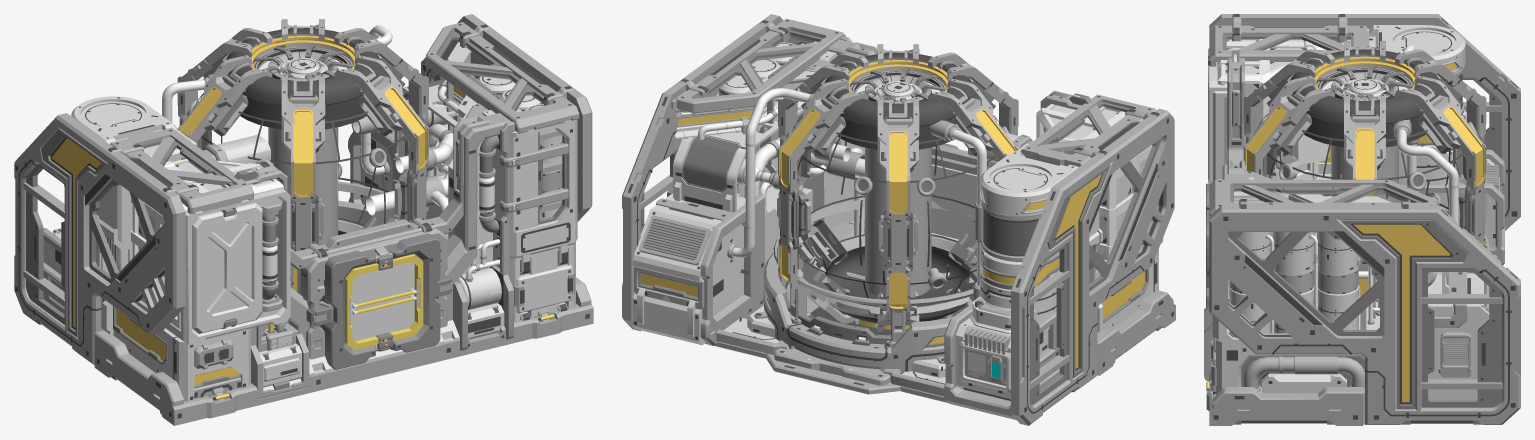
The model's file is Prototech_Reactor_LOD1.fbx.
3 renders of one model, left to right at view 1: azimuth 30°, elevation 25°; view 2: azimuth 150°, elevation 25°; view 3: azimuth 270°, elevation 25°, orthographic. The views are drawn at different scales.
Visible parts, largest first — view 1: Cube.106, Cube.127, Plane.016, Cylinder.078, Prot_Assembler_PaintedDarker_06.002, Prot_Assembler_PaintedColorable_02.010, Cylinder.153, detector_conveyor_section_002, Prot_Assembler_PaintedVeryDark_04.007, 2_ReactorPole01.010, 2_ReactorPole01.009, Cube.146 (+44 smaller); view 2: Cube.106, Cylinder.078, Cube.146, Cube.131, 2_ReactorPole01.007, Plane.016, EMC Cylinder.011, Cylinder.067, 2_ReactorPole01.006, EMC Cylinder.009, Cube.248, 2_ReactorPole01.008 (+44 smaller); view 3: Cube.106, Cube.248, Plane.016, Cylinder.078, Cylinder.126, 2_ReactorPole01.007, Cube.247, Cylinder.153, 2_ReactorPole01.009, Cylinder.067, Cube.131, 2_ReactorPole01.008 (+34 smaller).
Boxes of the visible parts, x1,y1,x2,y2 form: Cube.106: [14, 14, 592, 365]; Cube.127: [96, 129, 290, 401]; Plane.016: [109, 22, 579, 214]; Cylinder.078: [226, 28, 380, 271]; Prot_Assembler_PaintedDarker_06.002: [94, 304, 593, 425]; Prot_Assembler_PaintedColorable_02.010: [192, 202, 262, 333]; Cylinder.153: [427, 119, 577, 321]; detector_conveyor_section_002: [345, 254, 423, 349]; Prot_Assembler_PaintedVeryDark_04.007: [324, 233, 440, 369]; 2_ReactorPole01.010: [281, 74, 325, 291]; 2_ReactorPole01.009: [334, 55, 428, 223]; Cube.146: [43, 131, 513, 398]; Cube.106: [622, 14, 1174, 425]; Cylinder.078: [824, 52, 971, 323]; Cube.146: [656, 194, 1059, 419]; Cube.131: [632, 108, 803, 345]; 2_ReactorPole01.007: [777, 78, 868, 324]; Plane.016: [676, 18, 1156, 166]; EMC Cylinder.011: [763, 223, 953, 371]; Cylinder.067: [980, 151, 1078, 330]; 2_ReactorPole01.006: [875, 96, 919, 331]; EMC Cylinder.009: [773, 199, 974, 344]; Cube.248: [640, 138, 1161, 405]; 2_ReactorPole01.008: [777, 52, 868, 292]; Cube.106: [1209, 14, 1520, 424]; Cube.248: [1228, 39, 1501, 407]; Plane.016: [1209, 25, 1436, 215]; Cylinder.078: [1290, 49, 1439, 202]; Cylinder.126: [1229, 232, 1358, 338]; 2_ReactorPole01.007: [1395, 75, 1487, 248]; Cube.247: [1349, 223, 1452, 404]; Cylinder.153: [1212, 314, 1364, 395]; 2_ReactorPole01.009: [1243, 75, 1334, 175]; Cylinder.067: [1369, 25, 1465, 185]; Cube.131: [1360, 272, 1489, 399]; 2_ReactorPole01.008: [1344, 94, 1385, 296].
Size of what is drawn, in the model's own units: 755 by 453 by 508.
